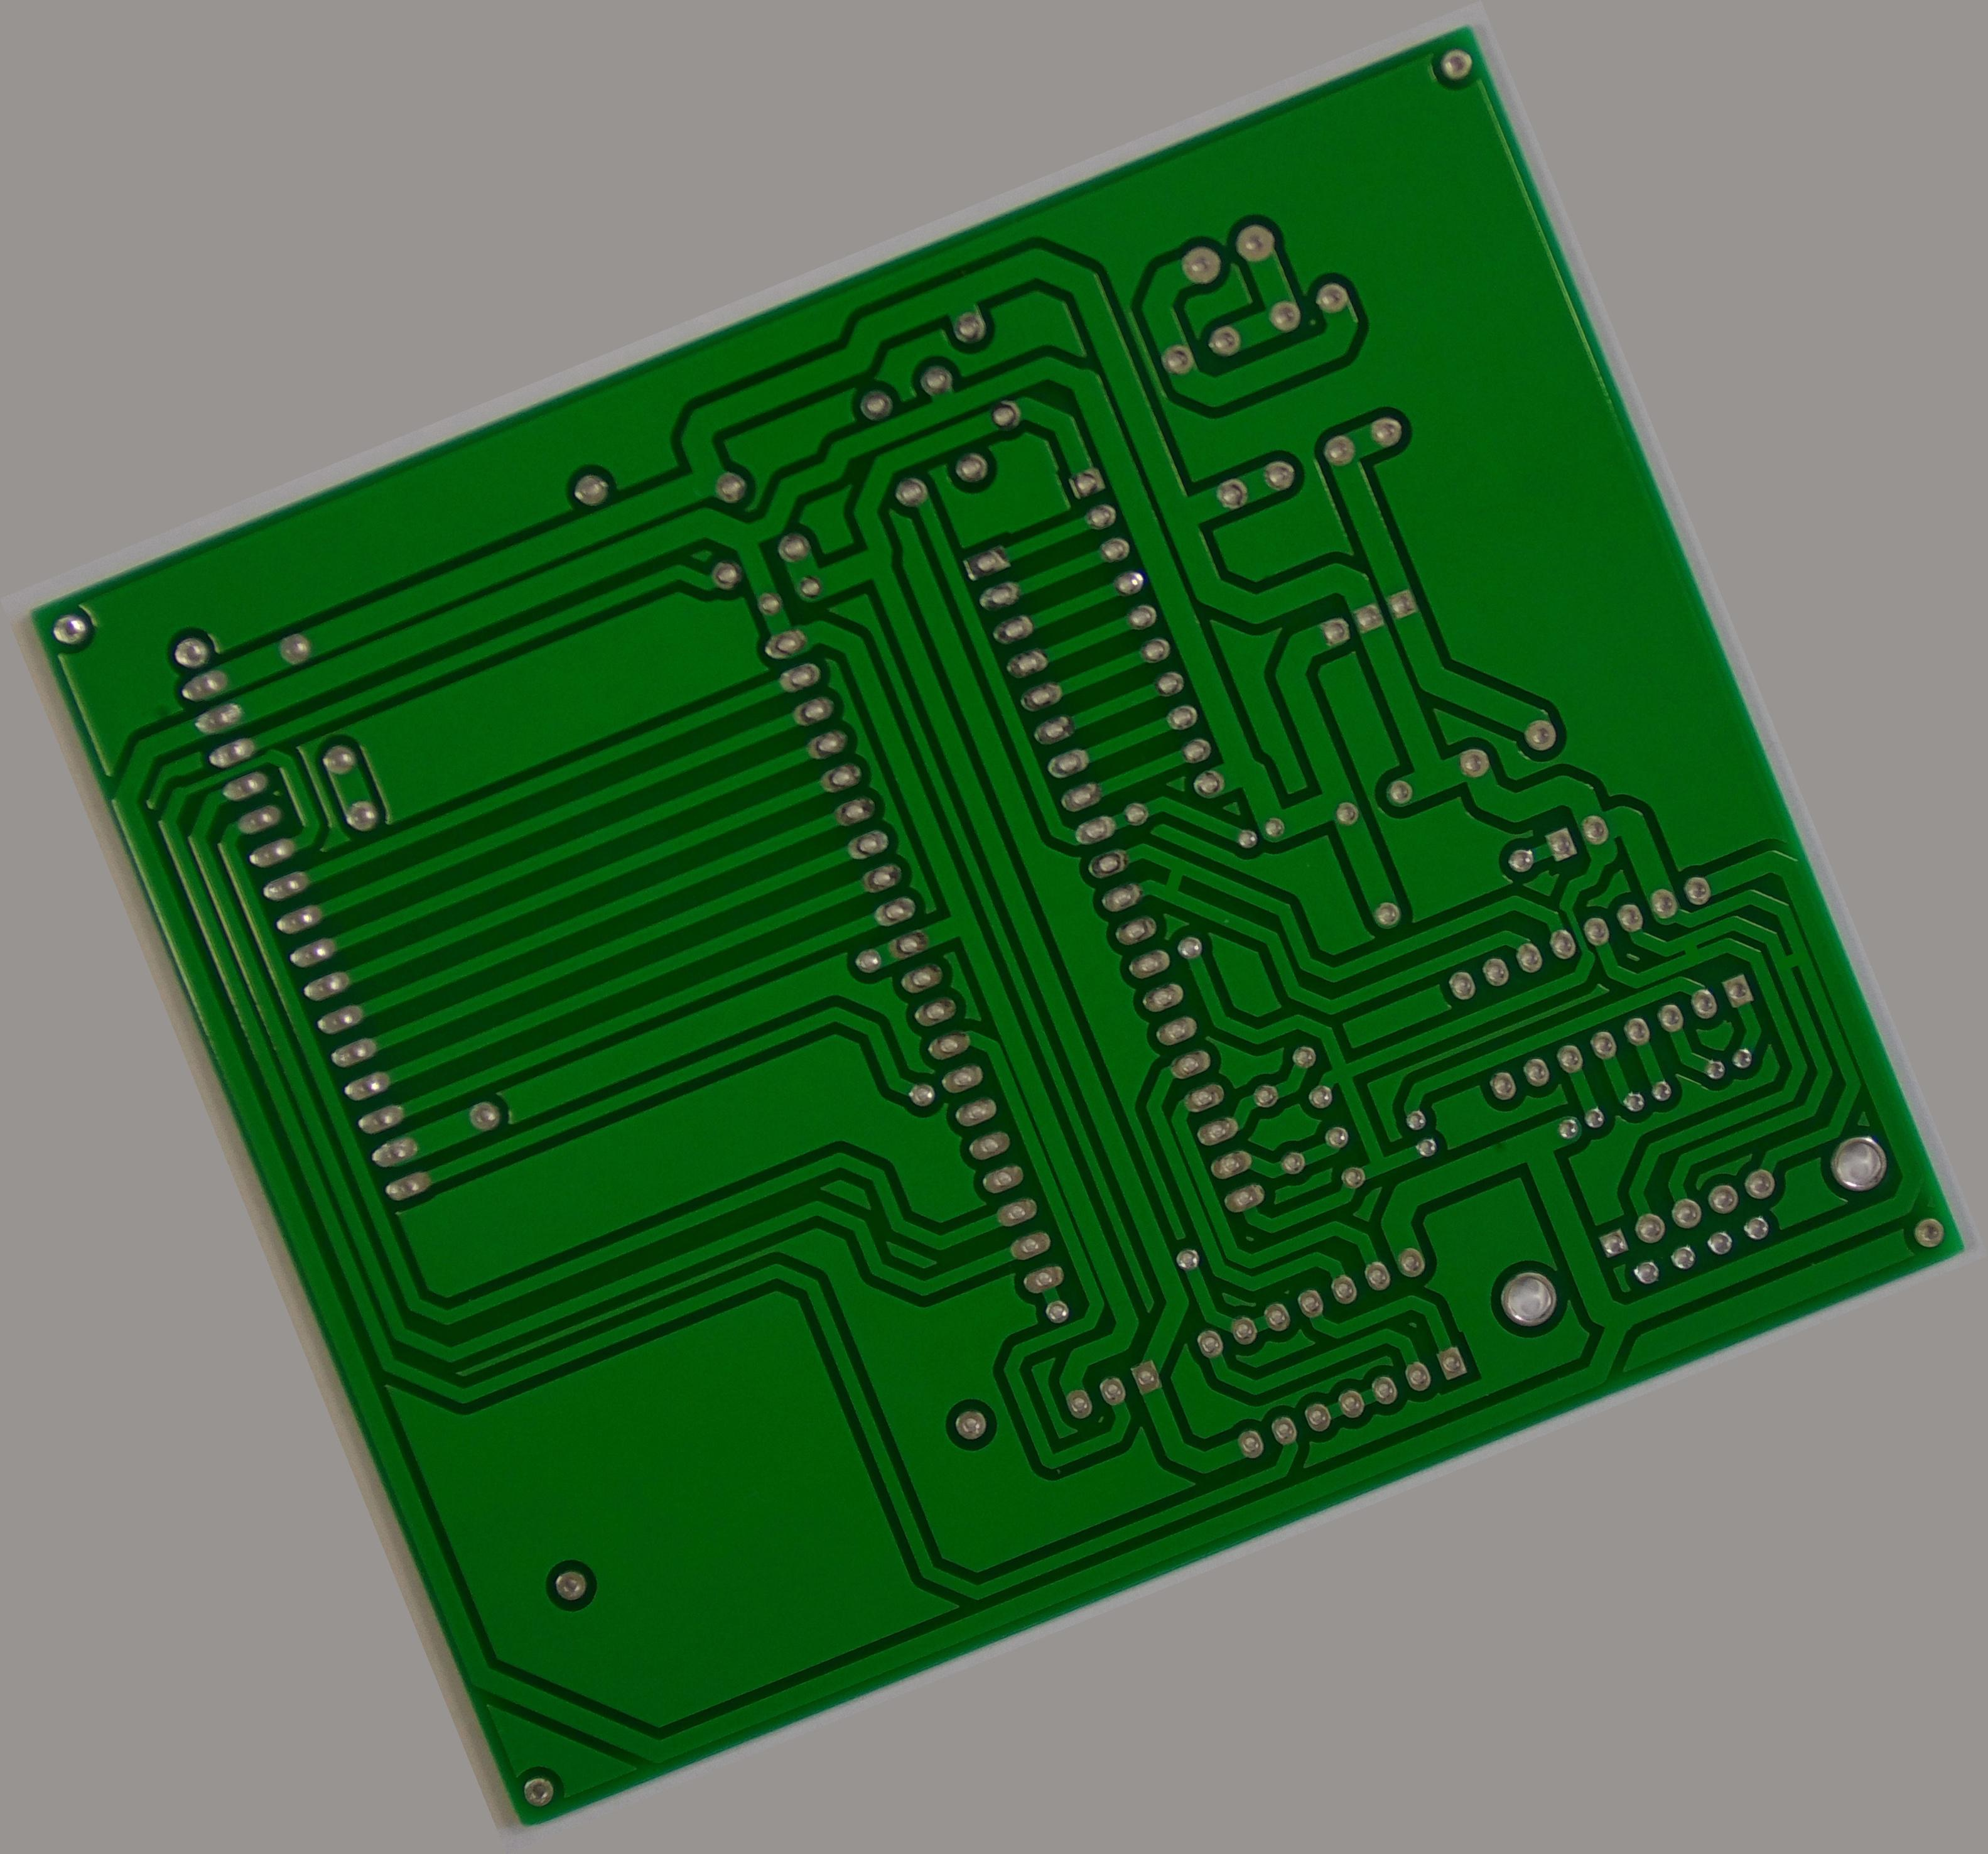short: (1143, 847, 1206, 911), (1662, 920, 1720, 976), (1765, 930, 1819, 986)
